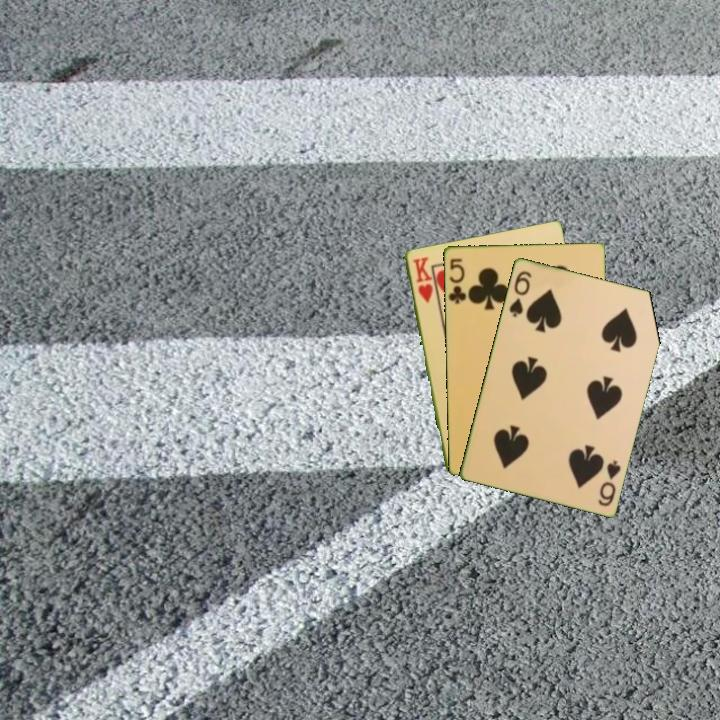5c: (445, 254, 469, 306)
6s: (505, 267, 534, 320), (594, 456, 623, 509)
Kh: (409, 253, 435, 305)
